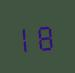eight: (37, 20, 54, 51)
one: (19, 21, 36, 53)
